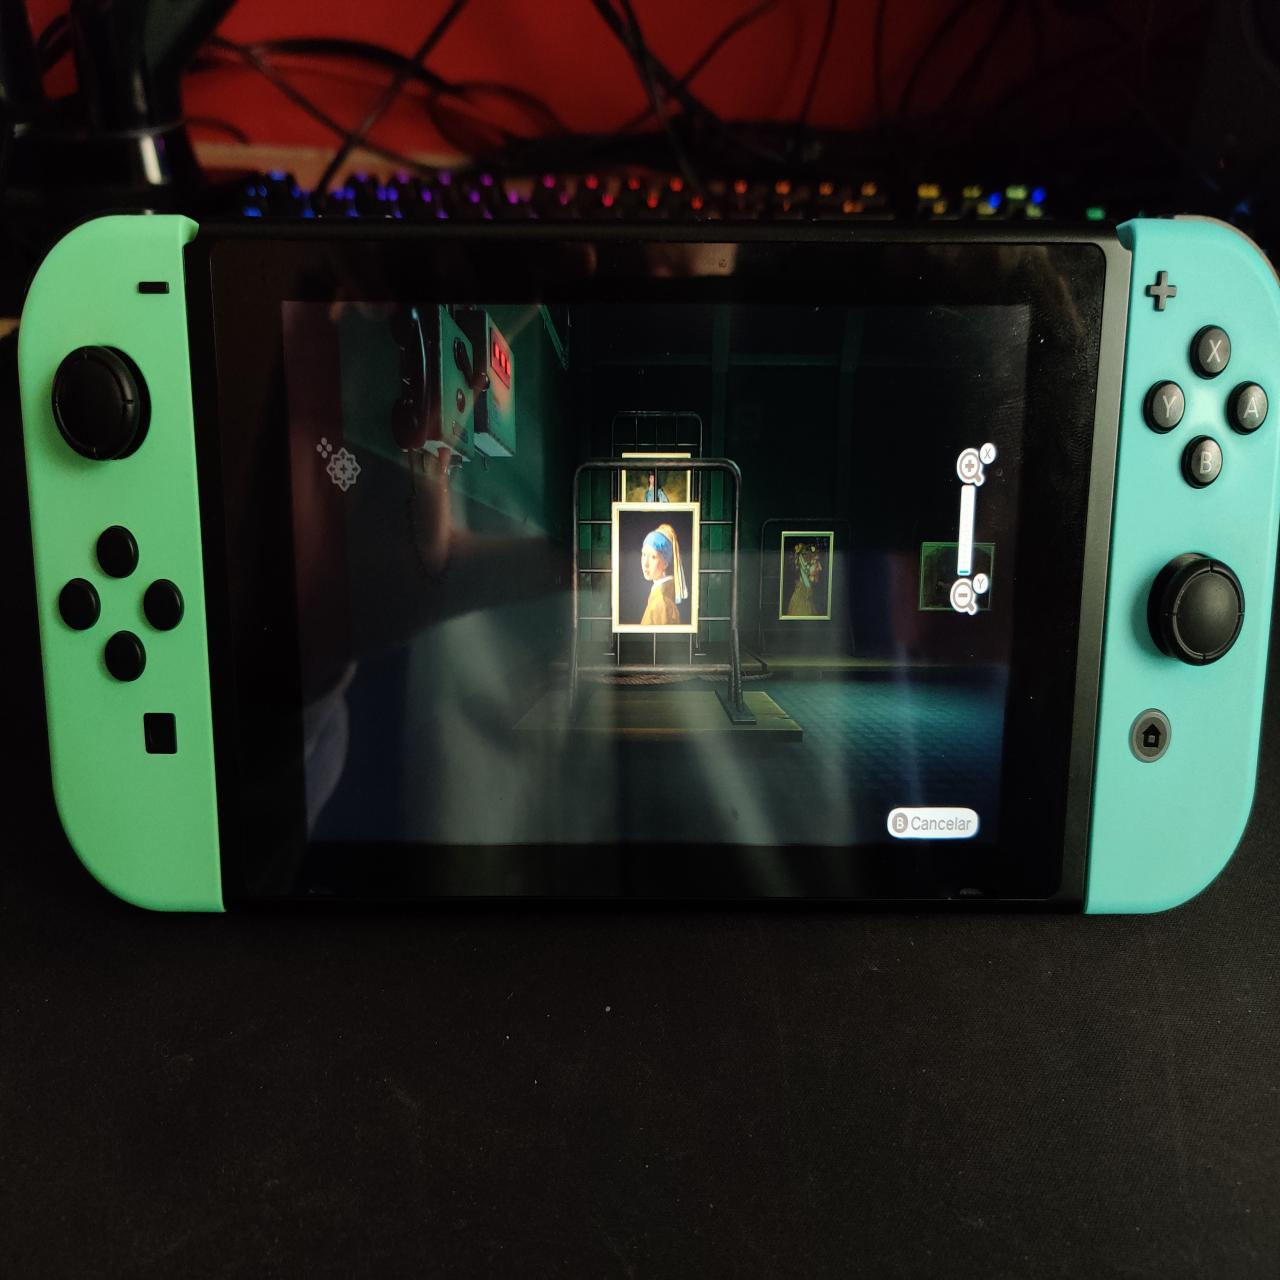PearlEarring: (620, 515, 694, 627)
SummerFake: (785, 537, 828, 618)
